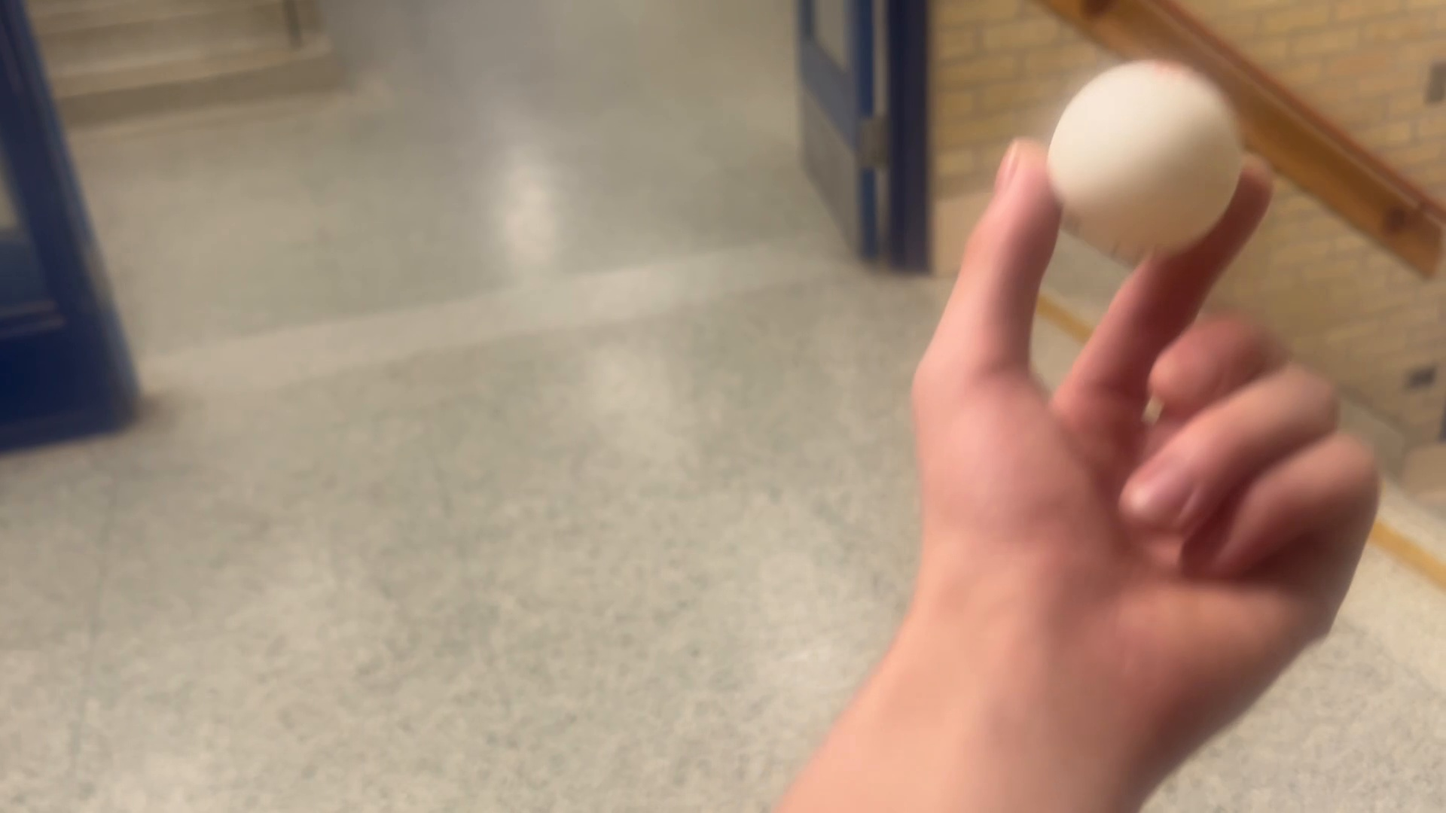Ball: (1050, 44, 1242, 268)
